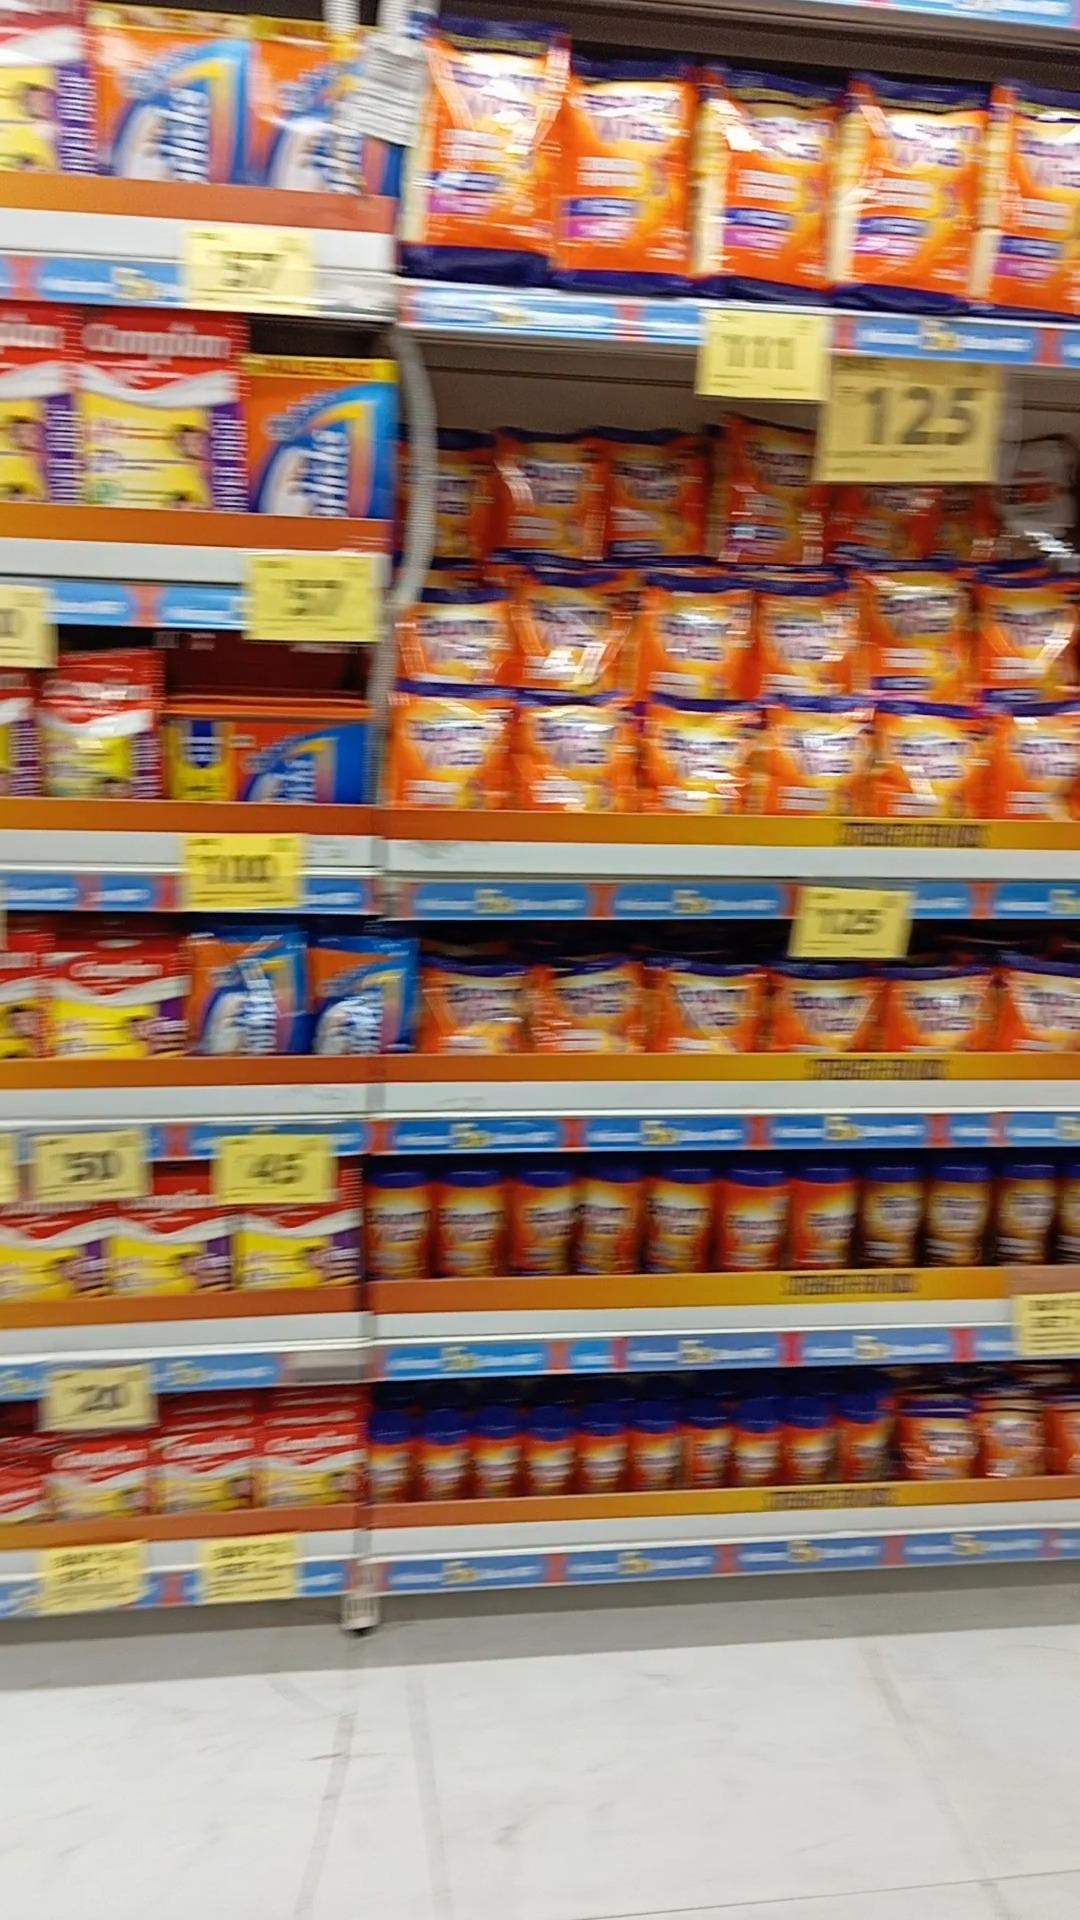BOURN_VITA_1_KG_POUCH: (425, 24, 563, 278), (847, 74, 982, 311), (574, 40, 696, 299), (704, 65, 828, 305), (998, 87, 1080, 322)
BOURN_VITA_200_G_JAR: (467, 1415, 521, 1502), (629, 1408, 678, 1495), (684, 1406, 733, 1491), (787, 1408, 840, 1487), (526, 1416, 575, 1499), (367, 1420, 410, 1511), (415, 1420, 463, 1501), (845, 1406, 891, 1482), (740, 1412, 786, 1487), (584, 1412, 625, 1497)
BOURN_VITA_500_G_JAR: (505, 1156, 574, 1279), (646, 1153, 713, 1275), (363, 1166, 430, 1279), (582, 1150, 644, 1273), (790, 1164, 856, 1278), (716, 1167, 786, 1271), (440, 1160, 500, 1282)
BOURN_VITA_500_G_POUCH: (533, 964, 646, 1056), (889, 963, 994, 1058), (422, 963, 526, 1056), (658, 964, 764, 1054), (775, 971, 874, 1054), (992, 963, 1080, 1052)
BOURN_VITA_750_G_POUCH: (720, 418, 831, 567), (385, 682, 505, 818), (517, 690, 626, 814), (608, 427, 707, 560), (644, 576, 757, 692), (647, 696, 756, 818), (874, 572, 976, 698), (498, 440, 601, 563), (881, 703, 982, 827), (770, 695, 870, 819), (981, 579, 1080, 698), (762, 589, 865, 696), (990, 711, 1080, 825), (404, 585, 506, 678)
BOURN_VITA_75_G_POUCH: (902, 1404, 978, 1481), (984, 1393, 1042, 1481)
BOURN_VITA_FIVE_STAR_MAGIC_500_G_JAR: (998, 1154, 1064, 1266), (928, 1159, 989, 1269), (864, 1160, 922, 1267)
HORLICK_CLASSIC_MALT_500_G_PACK: (240, 353, 398, 517)
HORLICK_CLASSIC_MALT_750_G_POUCH: (302, 932, 414, 1059), (193, 927, 294, 1059)
